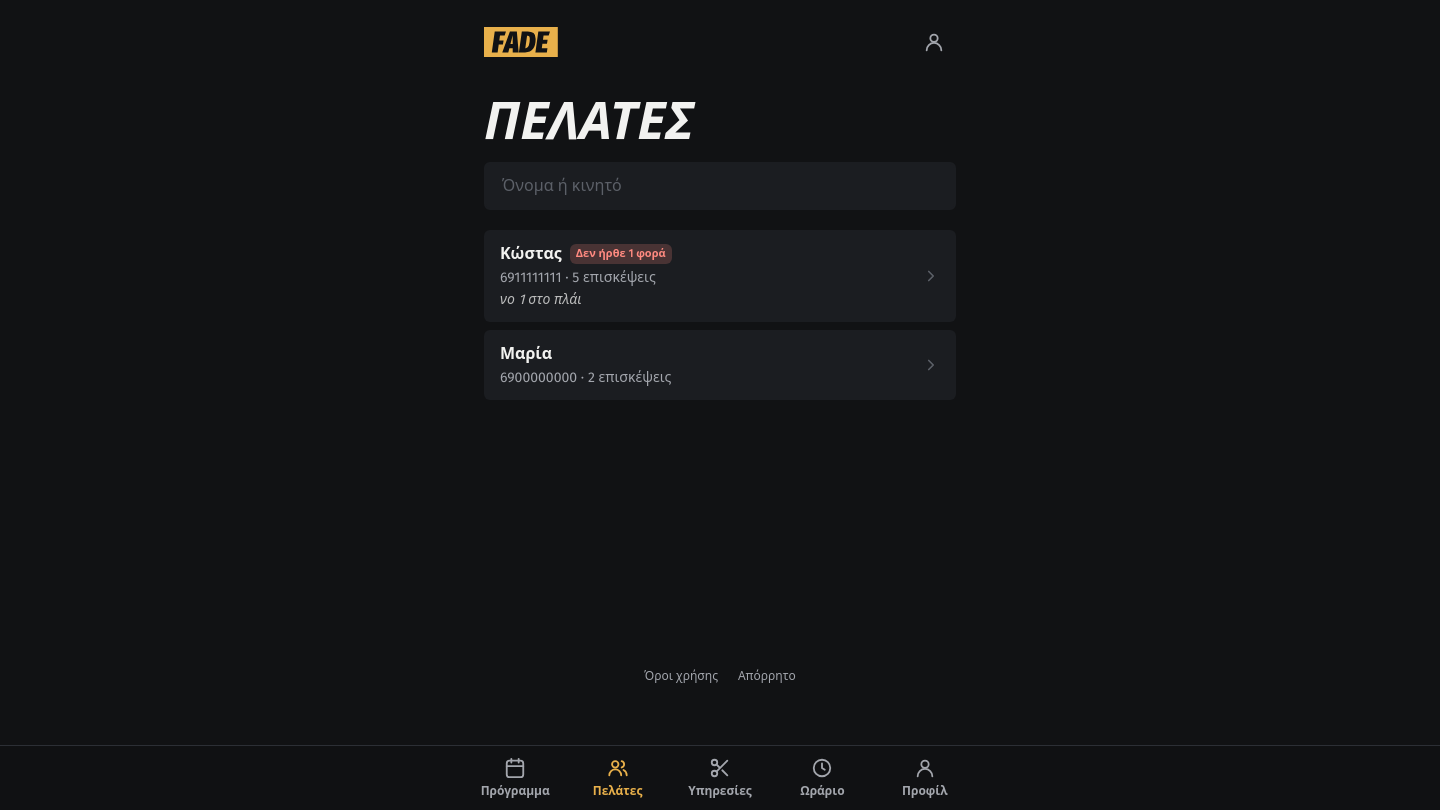
it: lists the customers and finds them by name or number
The image size is (1440, 810).
Expected: the heading "Πελάτες" is shown, [484,83,694,154]
Expected: the text "Δεν ήρθε 1 φορά" is shown, [570,244,672,264]
Type "μαρ" into the search field labelled "Όνομα ή κινητό". click: (720, 186)
box: [484,162,956,210]
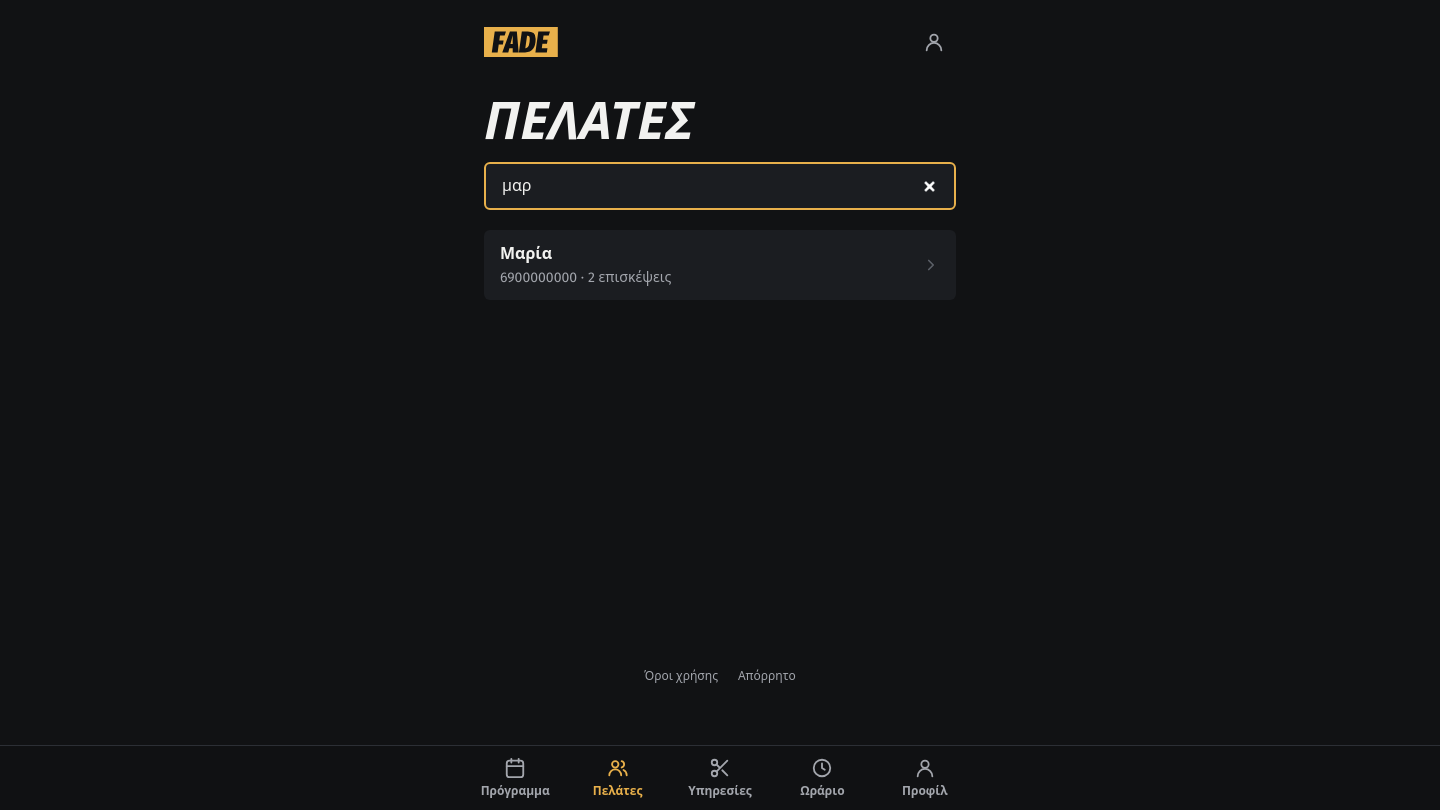
Expected: the link "Μαρία 6900000000 · 2 επισκέψεις" is shown, [484,230,956,300]
Expected: the link "Κώστας" is gone
